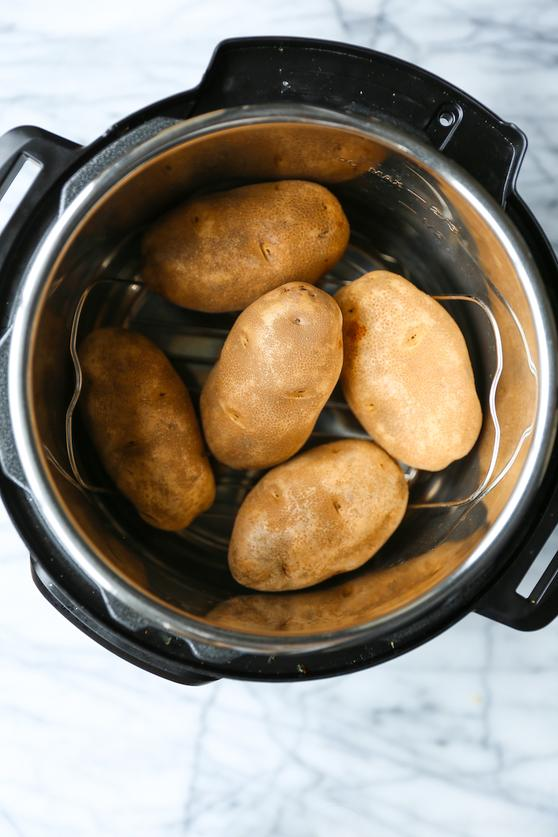potato: (332, 266, 486, 472), (73, 325, 219, 529), (227, 438, 411, 591), (142, 176, 353, 307), (199, 282, 341, 474)
